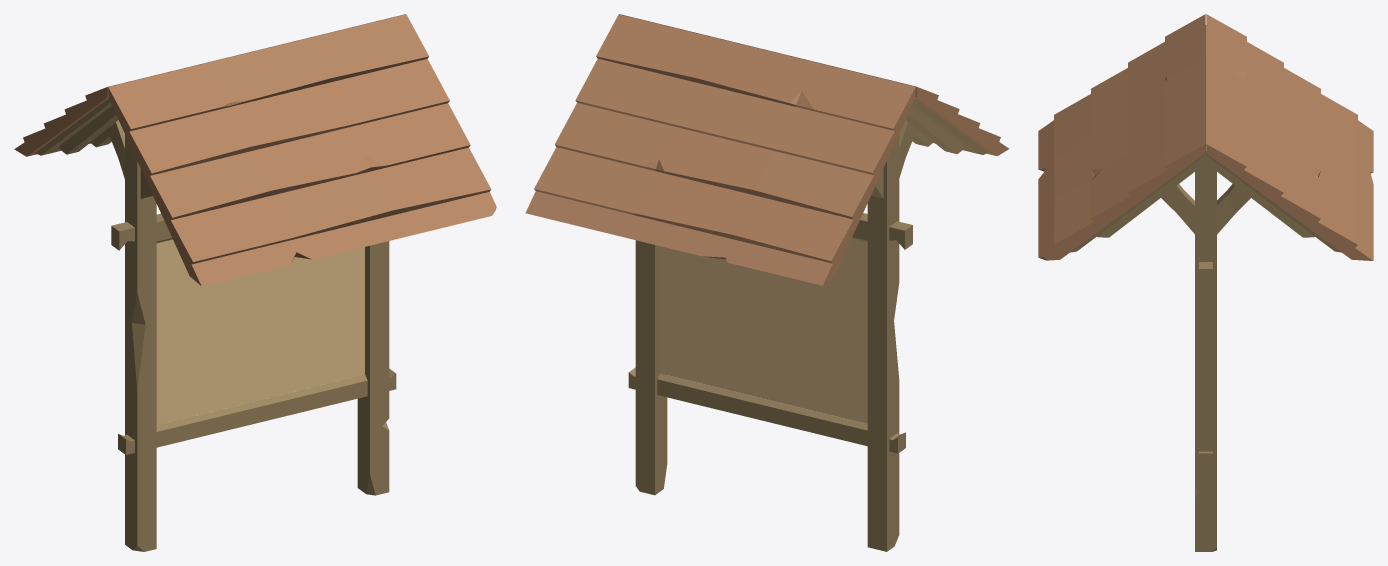
The model's file is ParkInfoBoard.glb.
3 views of the same model, side by side, from view 1: azimuth 30°, elevation 25°; view 2: azimuth 150°, elevation 25°; view 3: azimuth 270°, elevation 25° (orthographic). The views are drawn at different scales.
Parts seen in each view (by area): view 1: ParkInfoBoard; view 2: ParkInfoBoard; view 3: ParkInfoBoard.
Boxes of the visible parts, x1,y1,x2,y2 form: ParkInfoBoard: [14, 14, 496, 551]; ParkInfoBoard: [525, 14, 1009, 551]; ParkInfoBoard: [1038, 14, 1373, 551].
Bounding box in the file's own units: 1.11 × 1.66 × 1.21.
